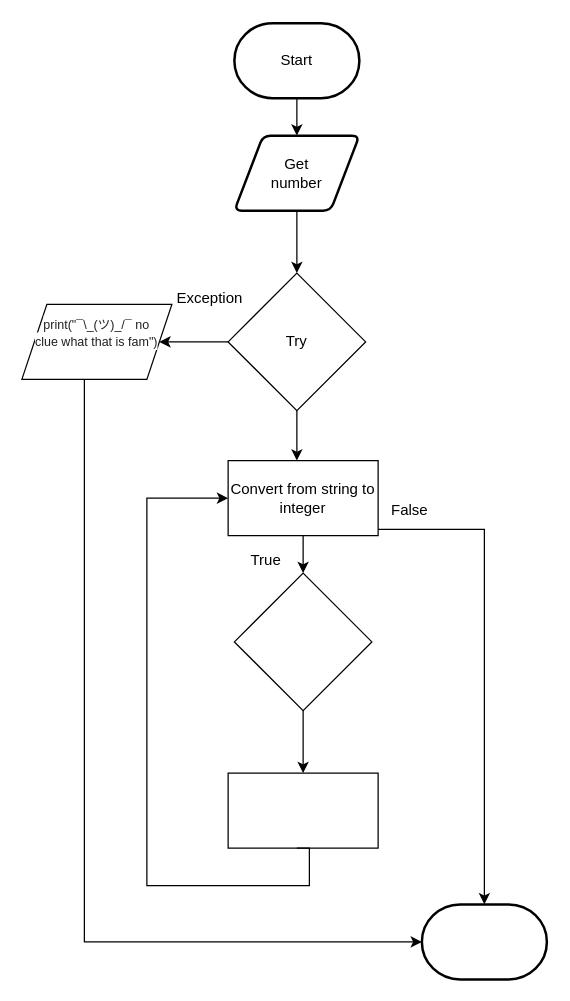
The diagram is 570 pixels wide and 1001 high, and some of its shapes have lost their labels. The box of each missing label's shape, as (x1, y1, x2, y2) in pixels:
loop_counter = loop_counter + 1: (227, 772, 378, 848)
Stop: (420, 902, 548, 980)
while loop_counter > positive input: (233, 572, 372, 711)
